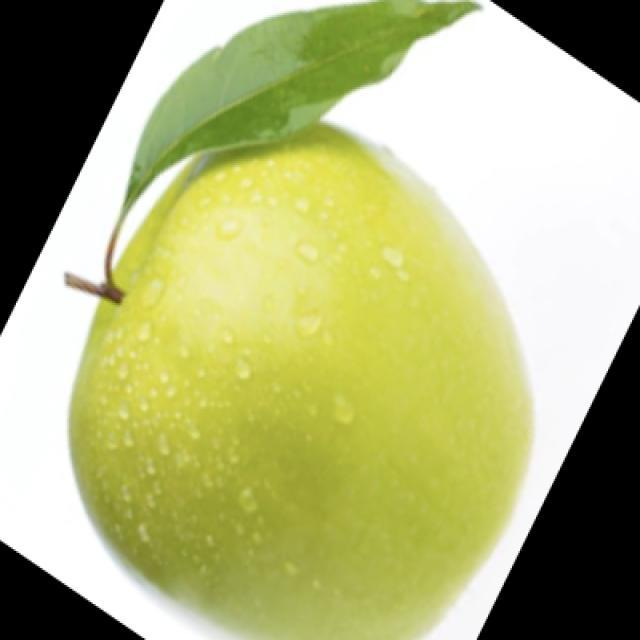Apple: (63, 121, 536, 639)
